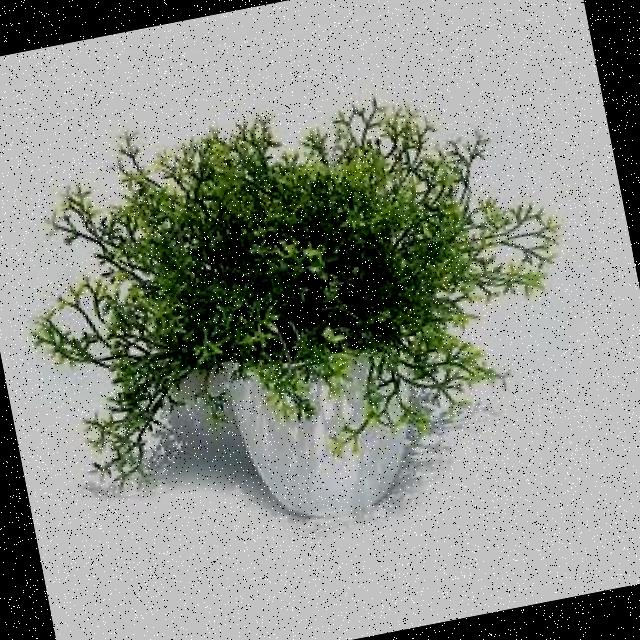plant: (27, 95, 570, 524)
